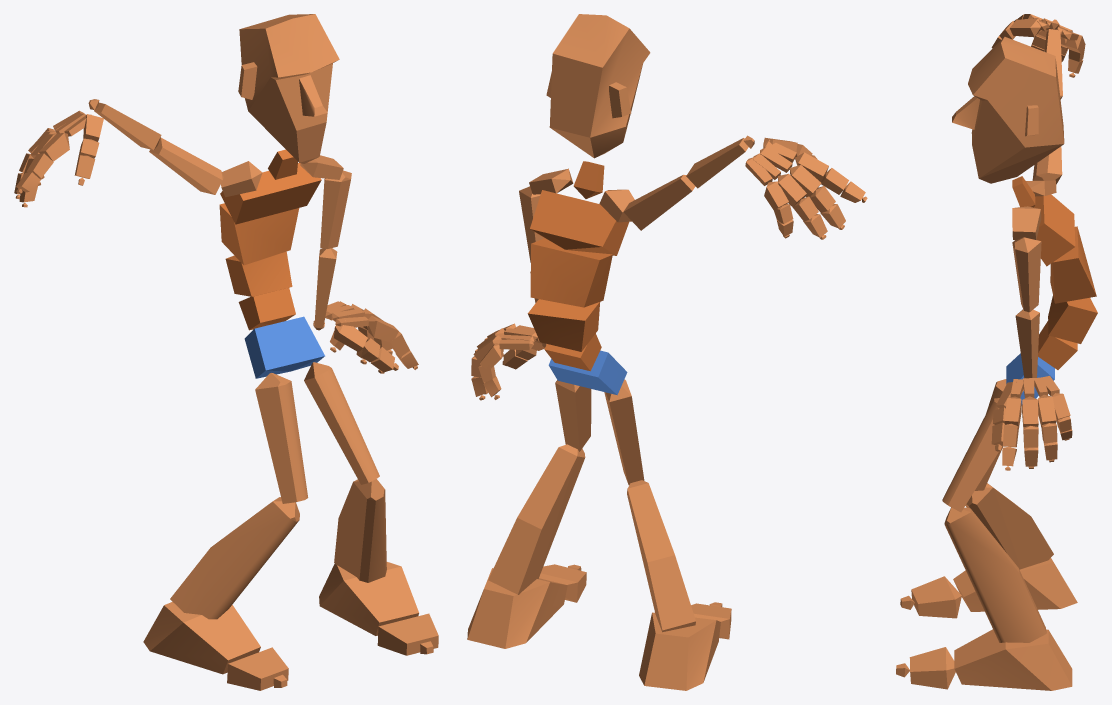
3 renders of one model, left to right at view 1: azimuth 30°, elevation 25°; view 2: azimuth 150°, elevation 25°; view 3: azimuth 270°, elevation 25°, orthographic. The views are drawn at different scales.
Visible parts, largest first — view 1: BOPED_Head, BOPED_R_leg, BOPED_R_foot, BOPED_R_foot01, BOPED_L_leg, BOPED_R_legup, BOPED_L_legup, Bone01, Bone04, Bone05, Bone03, BOPED_R_arm_upper (+9 smaller); view 2: BOPED_Head, BOPED_L_leg, BOPED_R_leg, BOPED_R_foot01, BOPED_R_foot, Bone04, Bone05, Bone03, BOPED_R_legup, BOPED_L_legup, Bone01, BOPED_R_arm_upper (+8 smaller); view 3: BOPED_Head, BOPED_L_leg, BOPED_R_foot01, BOPED_R_leg, BOPED_R_foot, BOPED_L_legup, Bone05, Bone04, Bone03, BOPED_L_arm_upper, BOPED_R_foot_toe01, BOPED_R_foot_toe04 (+16 smaller).
Boxes of the visible parts, x1=… form: BOPED_Head: x1=238, y1=14, x2=339, y2=163; BOPED_R_leg: x1=170, y1=497, x2=299, y2=619; BOPED_R_foot: x1=143, y1=602, x2=260, y2=674; BOPED_R_foot01: x1=319, y1=562, x2=418, y2=635; BOPED_L_leg: x1=334, y1=479, x2=386, y2=582; BOPED_R_legup: x1=255, y1=373, x2=308, y2=503; BOPED_L_legup: x1=304, y1=362, x2=379, y2=484; Bone01: x1=244, y1=316, x2=324, y2=378; Bone04: x1=219, y1=203, x2=299, y2=265; Bone05: x1=220, y1=163, x2=321, y2=224; Bone03: x1=225, y1=251, x2=292, y2=296; BOPED_R_arm_upper: x1=149, y1=137, x2=223, y2=194; BOPED_Head: x1=546, y1=14, x2=650, y2=158; BOPED_L_leg: x1=488, y1=444, x2=585, y2=594; BOPED_R_leg: x1=627, y1=480, x2=695, y2=632; BOPED_R_foot01: x1=467, y1=568, x2=567, y2=648; BOPED_R_foot: x1=639, y1=612, x2=720, y2=690; Bone04: x1=530, y1=238, x2=612, y2=307; Bone05: x1=530, y1=190, x2=629, y2=255; Bone03: x1=527, y1=299, x2=600, y2=351; BOPED_R_legup: x1=604, y1=379, x2=644, y2=484; BOPED_L_legup: x1=555, y1=380, x2=591, y2=451; Bone01: x1=548, y1=350, x2=627, y2=395; BOPED_R_arm_upper: x1=623, y1=174, x2=695, y2=230; BOPED_Head: x1=952, y1=36, x2=1064, y2=183; BOPED_L_leg: x1=944, y1=507, x2=1046, y2=642; BOPED_R_foot01: x1=954, y1=629, x2=1072, y2=690; BOPED_R_leg: x1=965, y1=483, x2=1053, y2=569; BOPED_R_foot: x1=953, y1=558, x2=1077, y2=611; BOPED_L_legup: x1=942, y1=398, x2=1002, y2=512; Bone05: x1=1034, y1=194, x2=1075, y2=266; Bone04: x1=1050, y1=226, x2=1096, y2=303; Bone03: x1=1048, y1=295, x2=1097, y2=343; BOPED_L_arm_upper: x1=1012, y1=237, x2=1041, y2=312; BOPED_R_foot_toe01: x1=911, y1=576, x2=961, y2=618; BOPED_R_foot_toe04: x1=909, y1=647, x2=955, y2=689.
Size of the model in its own units: 123 by 184 by 56.5.
